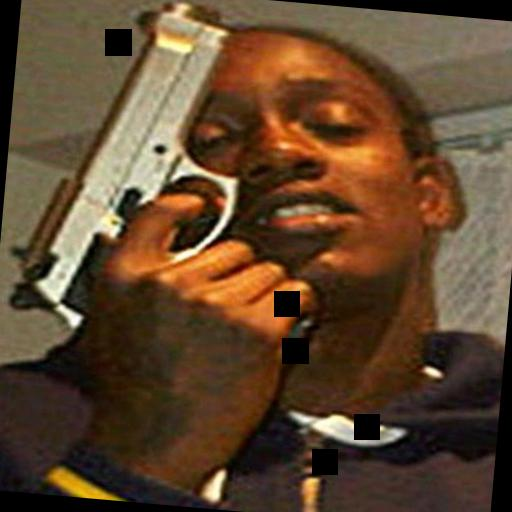Handgun: (1, 0, 335, 375)
